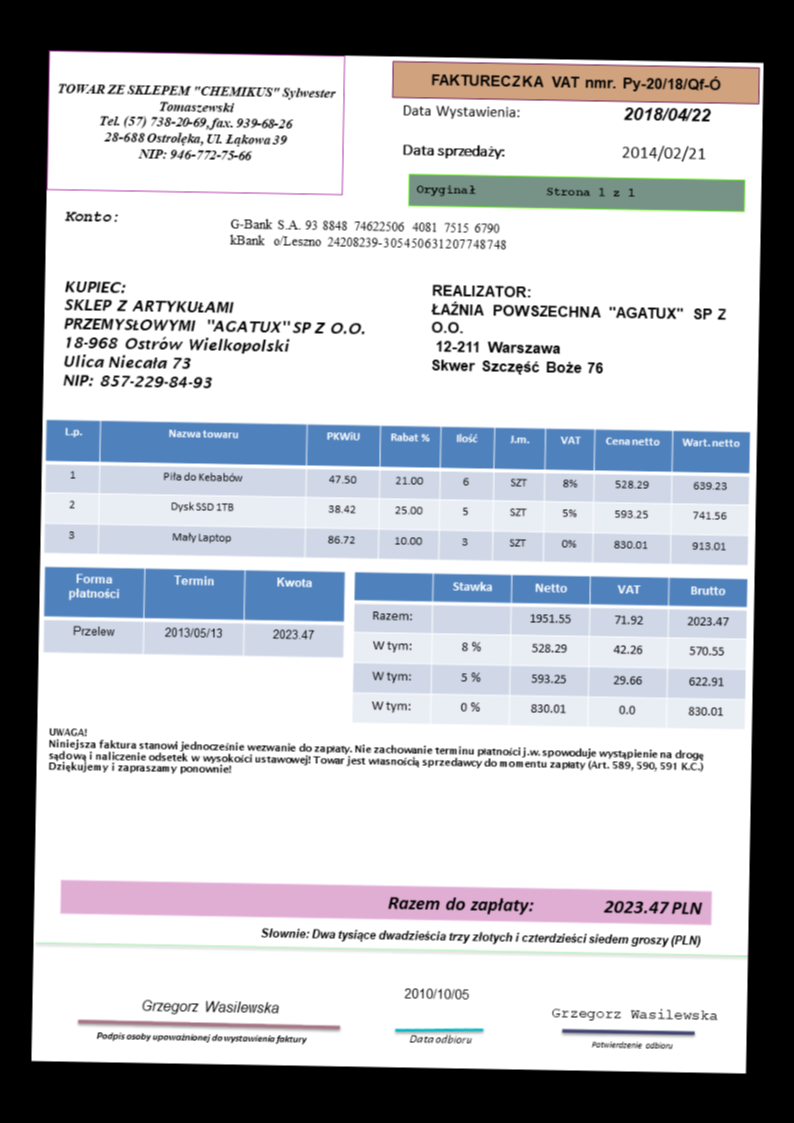Table: (42, 418, 751, 565), (350, 569, 749, 729), (42, 566, 345, 658)
TextBox: (45, 722, 706, 786), (58, 276, 369, 395), (427, 280, 729, 380), (53, 77, 337, 167), (257, 921, 707, 951), (224, 213, 508, 255), (382, 888, 705, 921), (425, 68, 721, 92), (414, 179, 636, 202), (92, 1026, 310, 1046), (547, 1003, 719, 1024), (138, 992, 281, 1017), (400, 100, 521, 121), (400, 139, 507, 162), (618, 101, 713, 126), (618, 141, 709, 165), (587, 1035, 676, 1054), (399, 982, 471, 1003), (61, 206, 119, 225), (407, 1029, 474, 1045)
